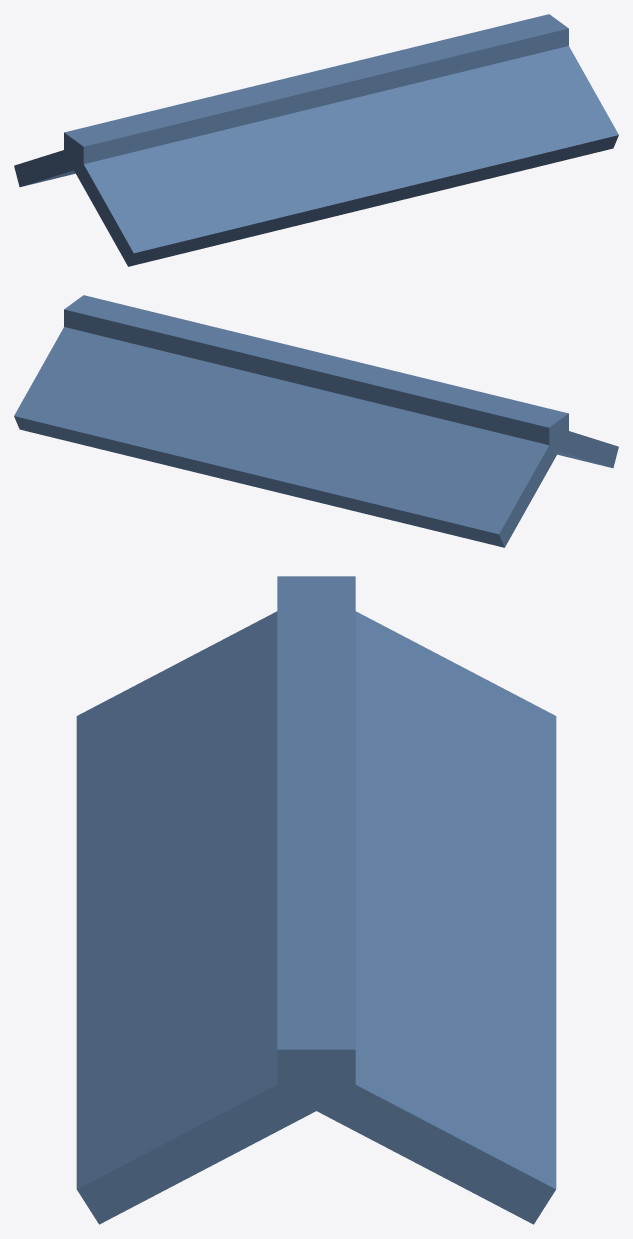
File: Roof_Ridge_1m.fbx
The picture shows the model from 3 angles, top to bottom: view 1: azimuth 30°, elevation 25°; view 2: azimuth 150°, elevation 25°; view 3: azimuth 270°, elevation 25°; orthographic projection. The views are drawn at different scales.
Visible parts, largest first — view 1: Roof_Ridge_1m; view 2: Roof_Ridge_1m; view 3: Roof_Ridge_1m.
Part boxes in pixels (box(x1,y1,x2,y2)): Roof_Ridge_1m: box(14, 14, 618, 266); Roof_Ridge_1m: box(14, 295, 618, 547); Roof_Ridge_1m: box(76, 576, 556, 1224).
Bounding box in the file's own units: 1 × 0.1723 × 0.4278.
Materials: 1 (1 with a texture image).
